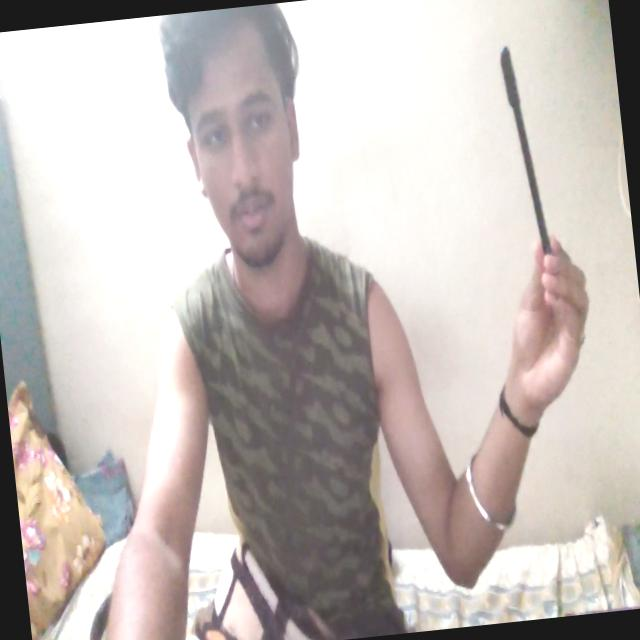pen: (491, 20, 564, 294)
